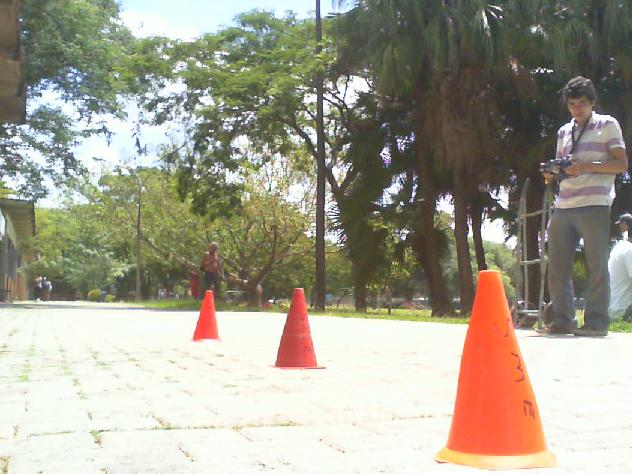0 cone: (435, 269, 558, 468), (265, 287, 326, 370), (190, 289, 222, 343)
